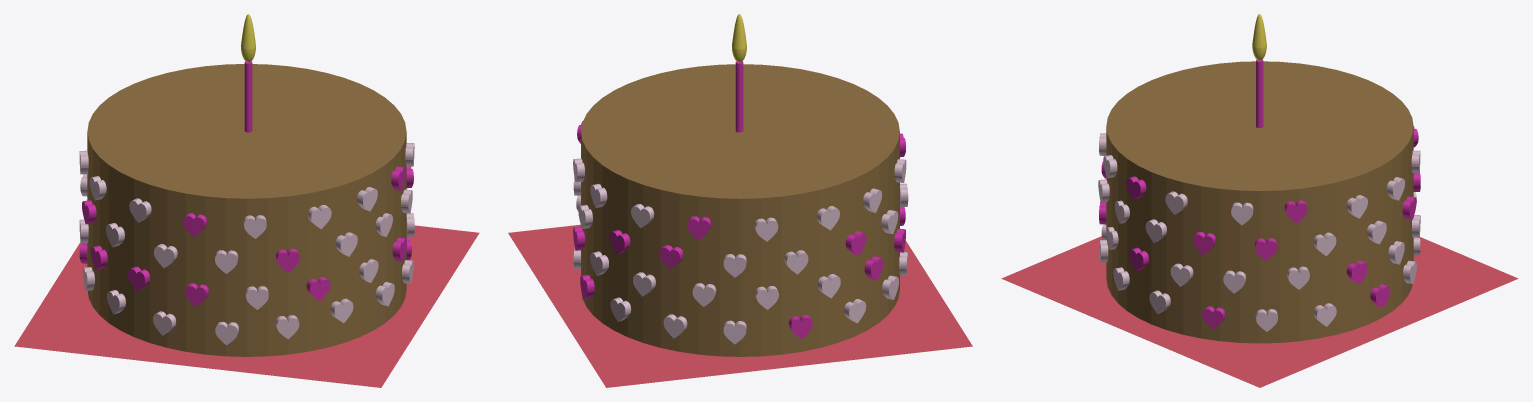
File: chocolate.glb
3 renders of one model, left to right at view 1: azimuth 30°, elevation 25°; view 2: azimuth 150°, elevation 25°; view 3: azimuth 270°, elevation 25°, orthographic. The views are drawn at different scales.
Visible parts, largest first — view 1: Mesh_Mesh_head_geo.001_lambert2SG.001; view 2: Mesh_Mesh_head_geo.001_lambert2SG.001; view 3: Mesh_Mesh_head_geo.001_lambert2SG.001.
Boxes of the visible parts, <box> form: Mesh_Mesh_head_geo.001_lambert2SG.001: <box>14,14,479,387</box>; Mesh_Mesh_head_geo.001_lambert2SG.001: <box>508,14,972,387</box>; Mesh_Mesh_head_geo.001_lambert2SG.001: <box>1001,14,1518,387</box>.
Bounding box in the file's own units: 0.0354 × 0.02 × 0.0354.
